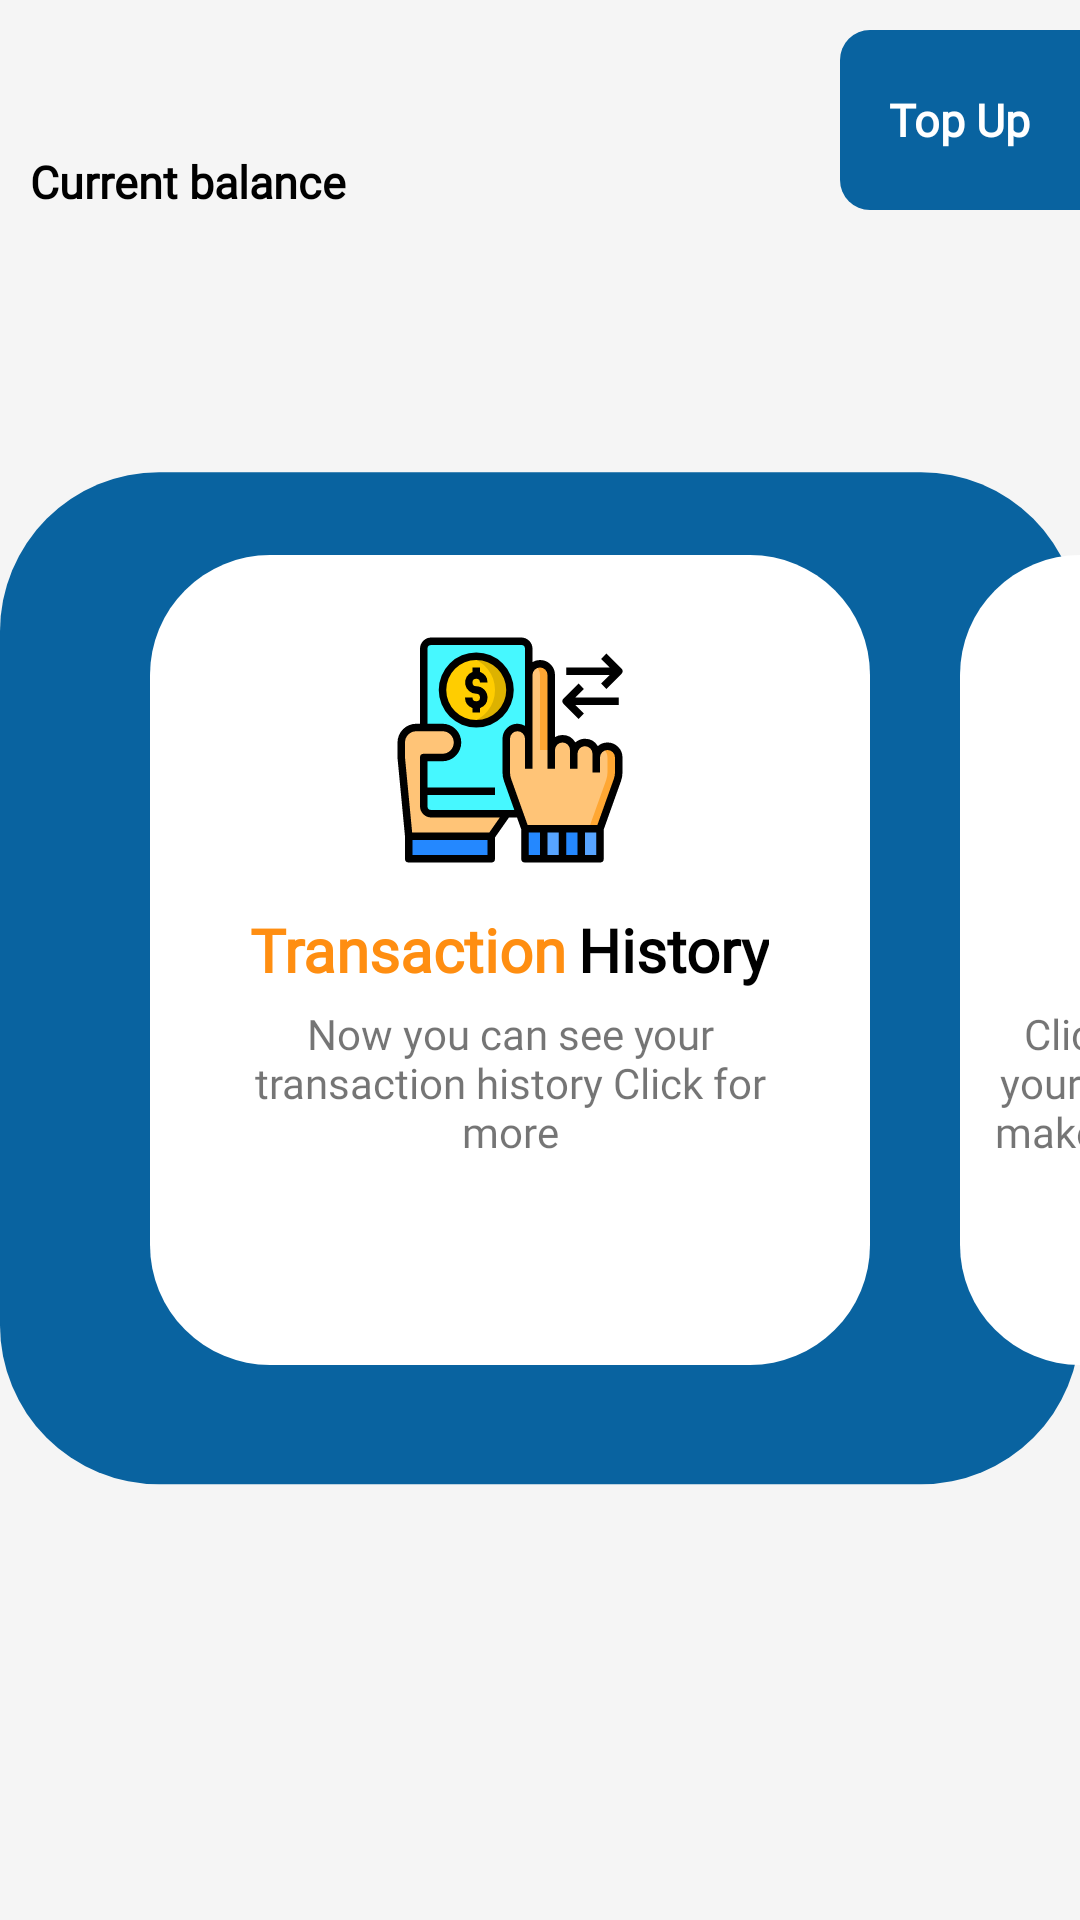

Icon bounding boxes for this 1080 × 1920 phone screenshot, format (x1, y1, x2, y2):
money transfer: (397, 637, 623, 863)
